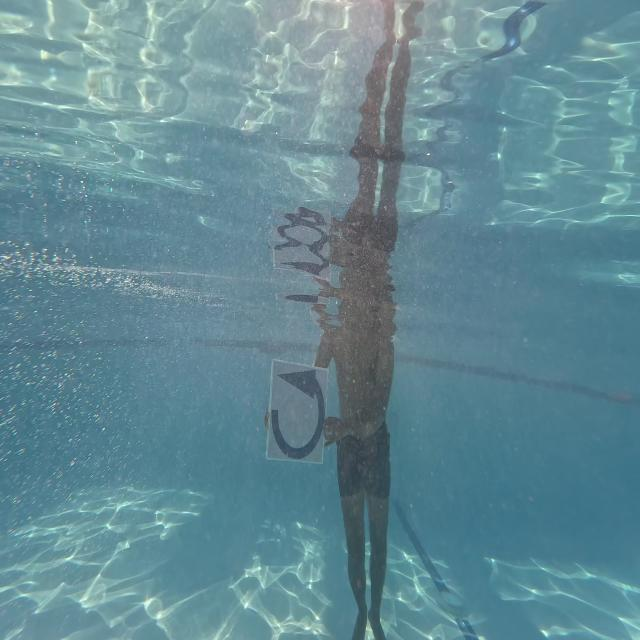blue_side: (267, 361, 328, 468)
